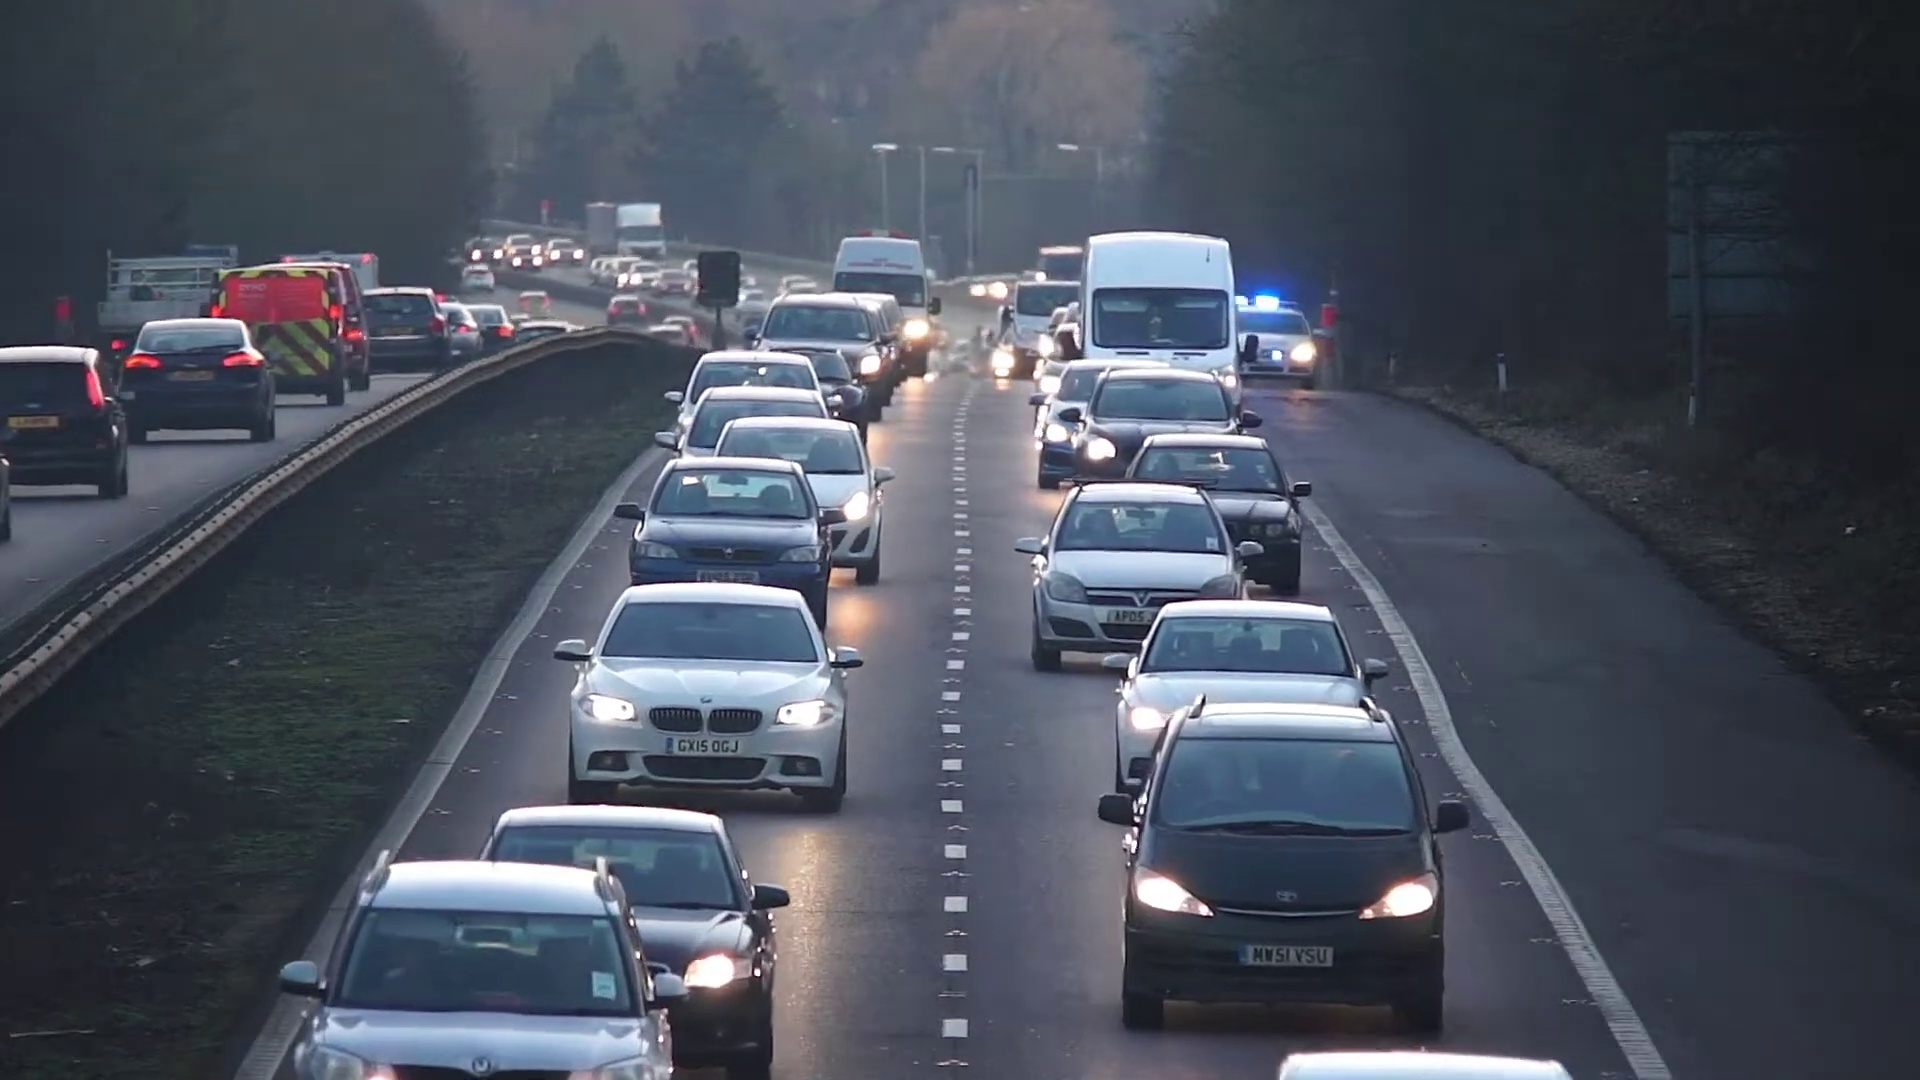license_plate: (1238, 942, 1339, 977), (667, 734, 744, 757), (693, 569, 761, 590), (1108, 604, 1159, 623)
